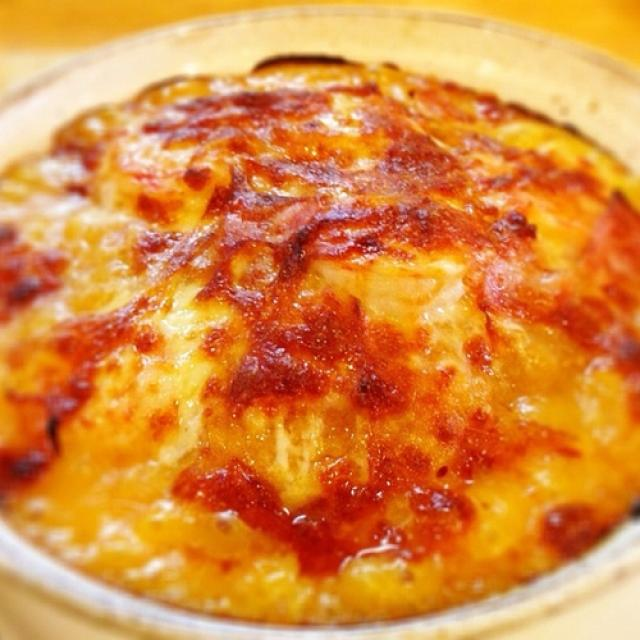米饭主食: (22, 25, 612, 620)
